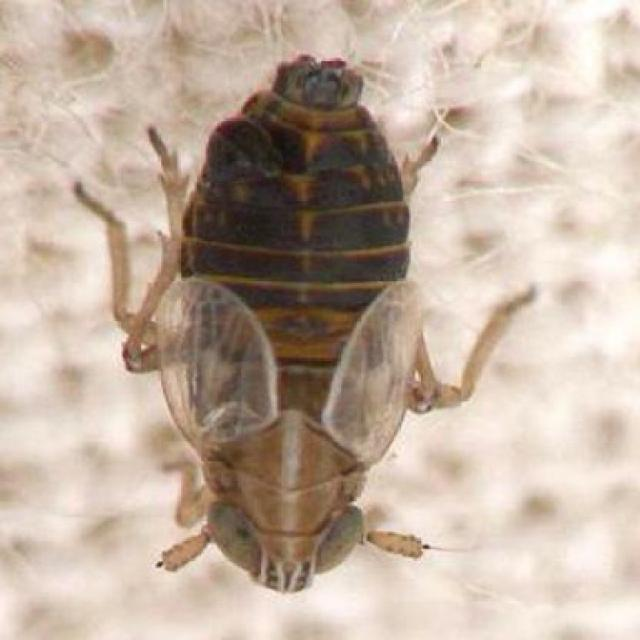brown-planthopper: (149, 51, 425, 591)
